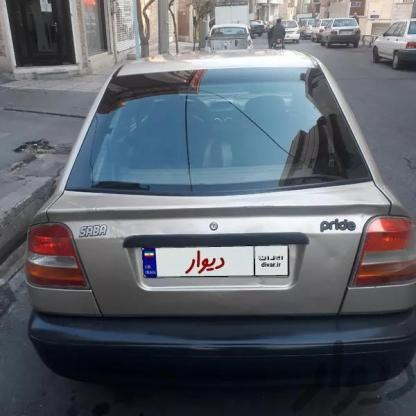Car: (14, 50, 416, 387), (374, 14, 416, 80), (204, 21, 251, 54), (324, 22, 360, 47), (268, 21, 303, 43)
